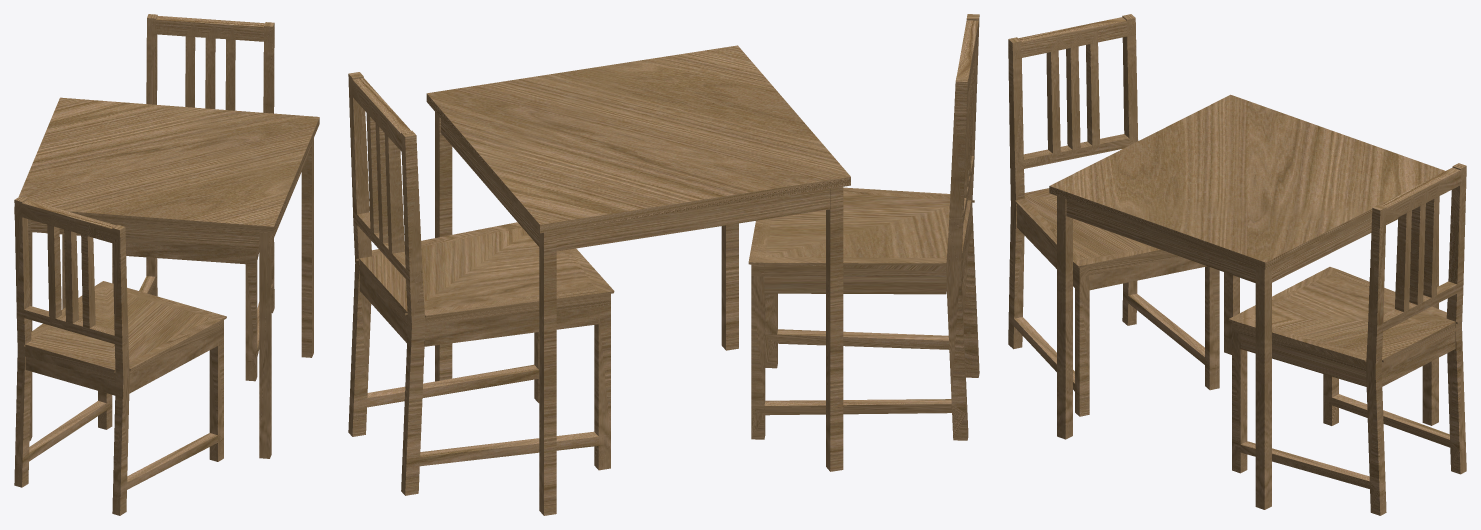
The model's file is Ingo_Table_and_Stefan_Chairs-3D.DAE.
The picture shows the model from 3 angles, left to right: view 1: azimuth 30°, elevation 25°; view 2: azimuth 150°, elevation 25°; view 3: azimuth 270°, elevation 25°; orthographic projection. The views are drawn at different scales.
Visible parts, largest first — view 1: Layer_0; view 2: Layer_0; view 3: Layer_0.
Boxes of the visible parts, x1,y1,x2,y2 form: Layer_0: (14,14,319,515); Layer_0: (348,14,979,515); Layer_0: (1008,14,1466,515).
Bounding box in the file's own units: 1237 × 902 × 1220.
